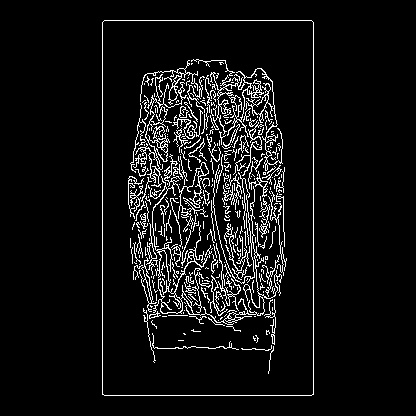buddha-standing: (49, 192, 233, 242)
